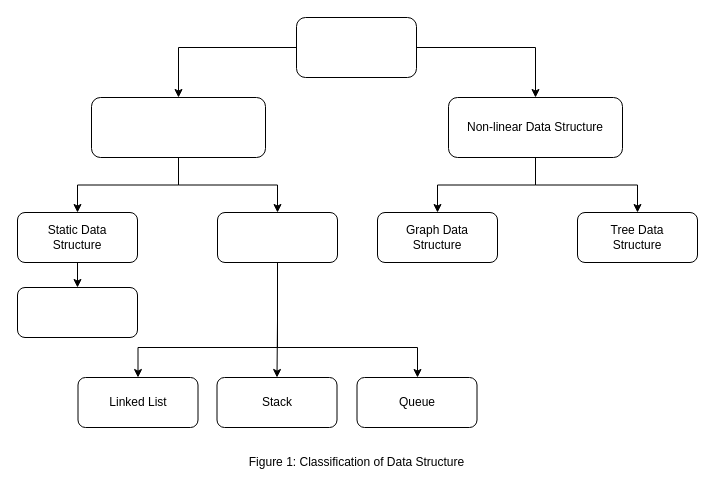
Image size: 715x495. Some labels were removed from this diagram. The shapes that lost their labels are listed below. From the top down, each one's centre as x and y in pixels, then its label:
At (356,47): "Data Structure".
At (178,127): "Linear Data Structure".
At (277,237): "Dynamic Data Structrure".
At (77,312): "Array".
